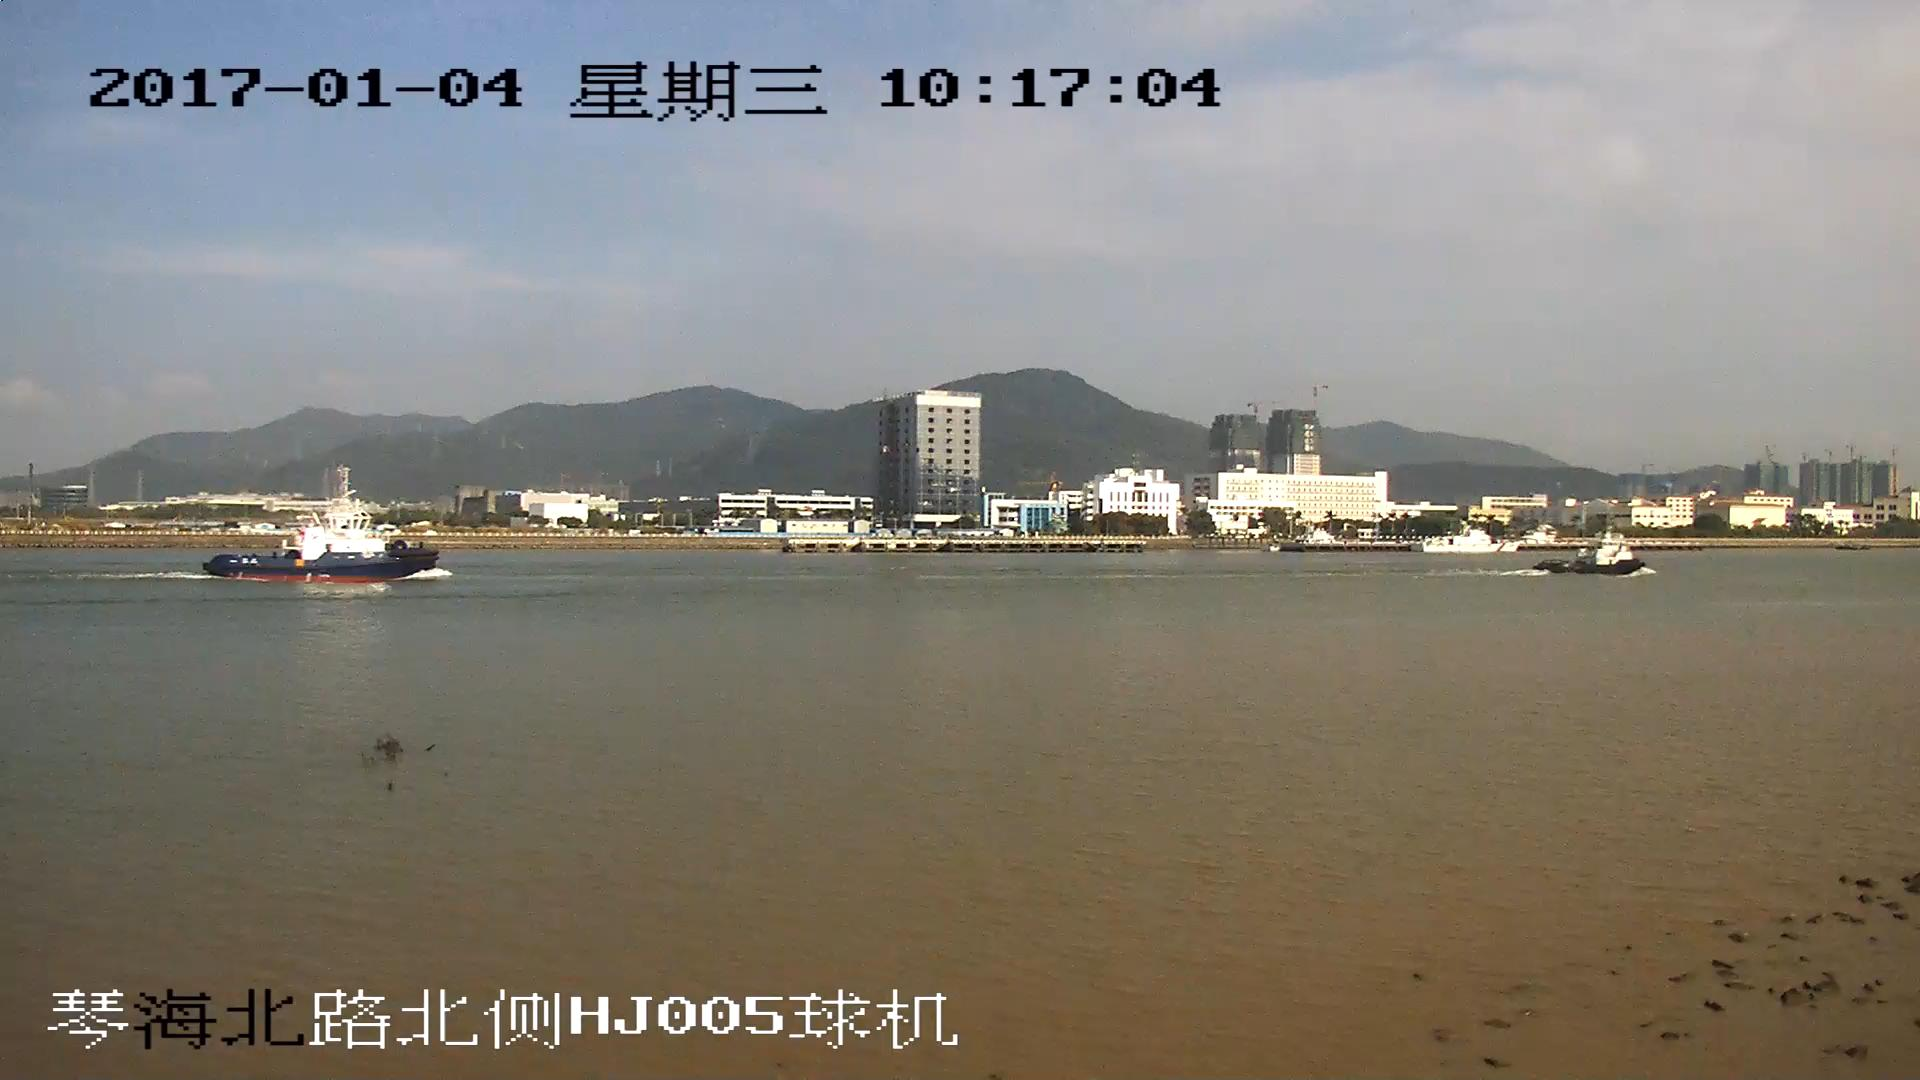fishing boat: (205, 468, 441, 583), (1544, 521, 1644, 578)
